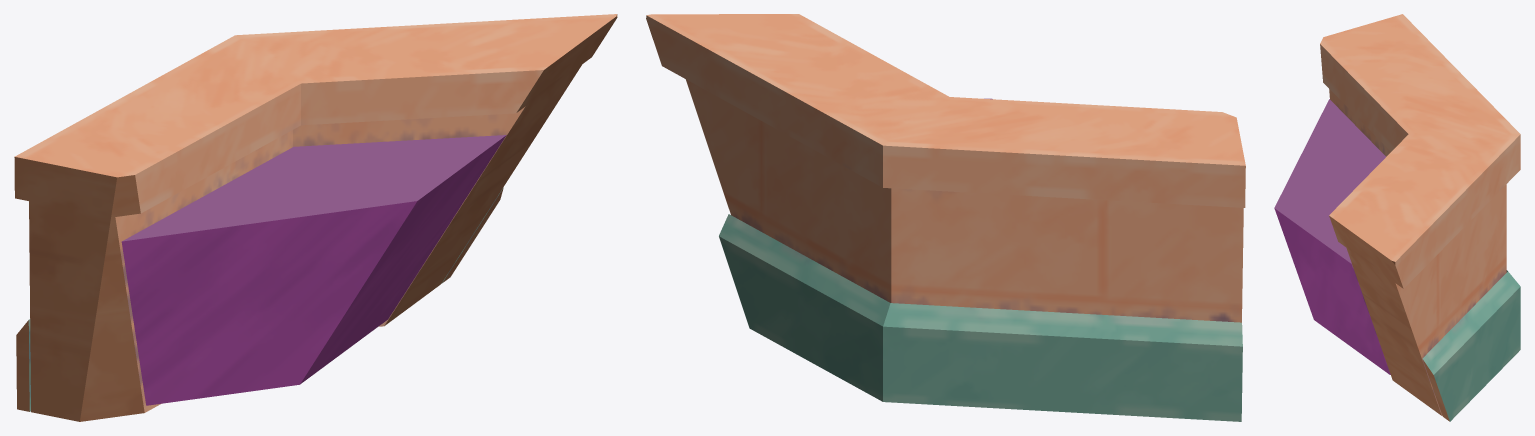
File: vat_plum_s07.fbx
The picture shows the model from 3 angles, left to right: view 1: azimuth 30°, elevation 25°; view 2: azimuth 150°, elevation 25°; view 3: azimuth 270°, elevation 25°; orthographic projection. The views are drawn at different scales.
Visible parts, largest first — view 1: vat_plum_s07; view 2: vat_plum_s07; view 3: vat_plum_s07.
Part boxes in pixels (left/top/right/bottom): vat_plum_s07: left=14, top=14, right=617, bottom=421; vat_plum_s07: left=646, top=14, right=1245, bottom=421; vat_plum_s07: left=1274, top=14, right=1520, bottom=421.
Size of the model in its own units: 4.19 by 1.7 by 1.76.
